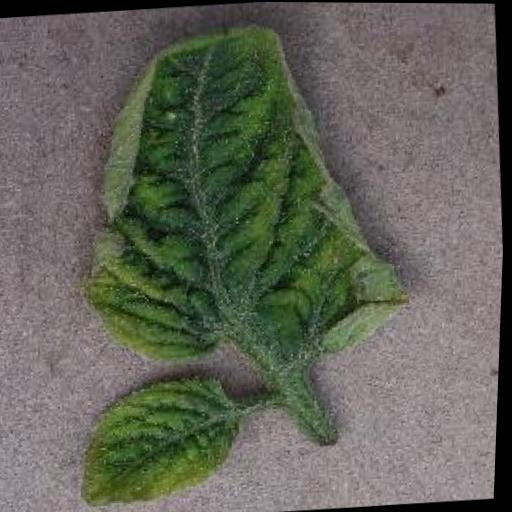Yellow Leaf Curl Virus: (62, 7, 421, 373), (76, 369, 248, 507)
